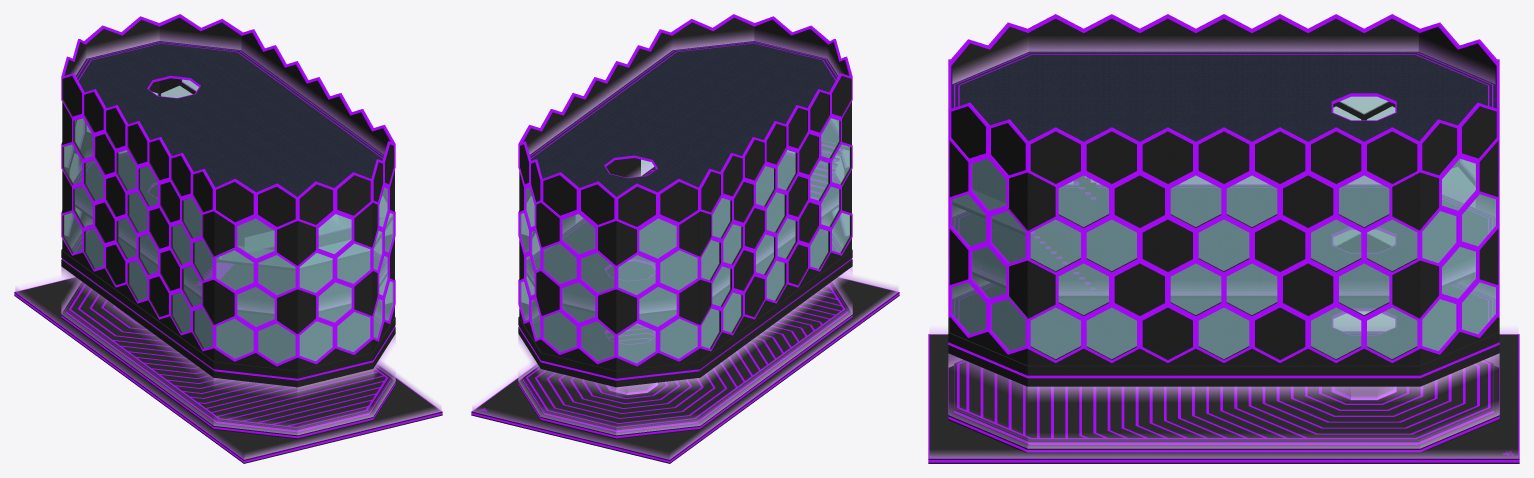
The model's file is Dhingia Builds 07 Size 2x1 Purple.glb.
3 views of the same model, side by side, from view 1: azimuth 30°, elevation 25°; view 2: azimuth 150°, elevation 25°; view 3: azimuth 270°, elevation 25° (orthographic). The views are drawn at different scales.
Visible parts, largest first — view 1: Mesh_16, Mesh_6.001, Mesh_0, Mesh_3, Mesh_2, Mesh_10, Mesh_18, Mesh_19, Mesh_4, Mesh_20, Mesh_1, Mesh_5 (+1 smaller); view 2: Mesh_16, Mesh_6.001, Mesh_0, Mesh_4, Mesh_2, Mesh_10, Mesh_18, Mesh_19, Mesh_1, Mesh_3, Mesh_20, Mesh_17; view 3: Mesh_1, Mesh_6.001, Mesh_0, Mesh_16, Mesh_10, Mesh_18, Mesh_19, Mesh_4, Mesh_3, Mesh_2, Mesh_20, Mesh_17 (+1 smaller).
Part boxes in pixels (x1,y1,x2,y2): Mesh_16: (75, 41, 384, 196); Mesh_6.001: (64, 79, 393, 363); Mesh_0: (14, 277, 442, 463); Mesh_3: (213, 141, 395, 387); Mesh_2: (61, 73, 214, 377); Mesh_10: (15, 32, 441, 459); Mesh_18: (73, 152, 386, 315); Mesh_19: (72, 225, 381, 362); Mesh_4: (61, 14, 242, 259); Mesh_20: (69, 284, 388, 427); Mesh_1: (242, 29, 395, 326); Mesh_5: (219, 209, 390, 267); Mesh_16: (529, 41, 838, 196); Mesh_6.001: (520, 118, 849, 363); Mesh_0: (471, 277, 899, 463); Mesh_4: (518, 141, 700, 387); Mesh_2: (699, 73, 852, 377); Mesh_10: (472, 32, 898, 459); Mesh_18: (527, 152, 840, 315); Mesh_19: (532, 224, 841, 362); Mesh_1: (518, 29, 671, 326); Mesh_3: (671, 14, 852, 259); Mesh_20: (526, 284, 845, 427); Mesh_17: (652, 120, 849, 205); Mesh_1: (1027, 127, 1420, 386); Mesh_6.001: (952, 96, 1495, 358); Mesh_0: (928, 331, 1519, 463); Mesh_16: (951, 51, 1496, 141); Mesh_10: (929, 40, 1518, 458); Mesh_18: (952, 185, 1495, 298); Mesh_19: (952, 283, 1495, 358); Mesh_4: (1419, 22, 1499, 386); Mesh_3: (948, 22, 1028, 386); Mesh_2: (1028, 14, 1419, 252); Mesh_20: (957, 332, 1490, 439); Mesh_17: (952, 159, 1095, 288).
Size of what is drawn, in the model's own units: 15.95 by 19.7 by 31.95.
Materials: 5 (3 with a texture image).
